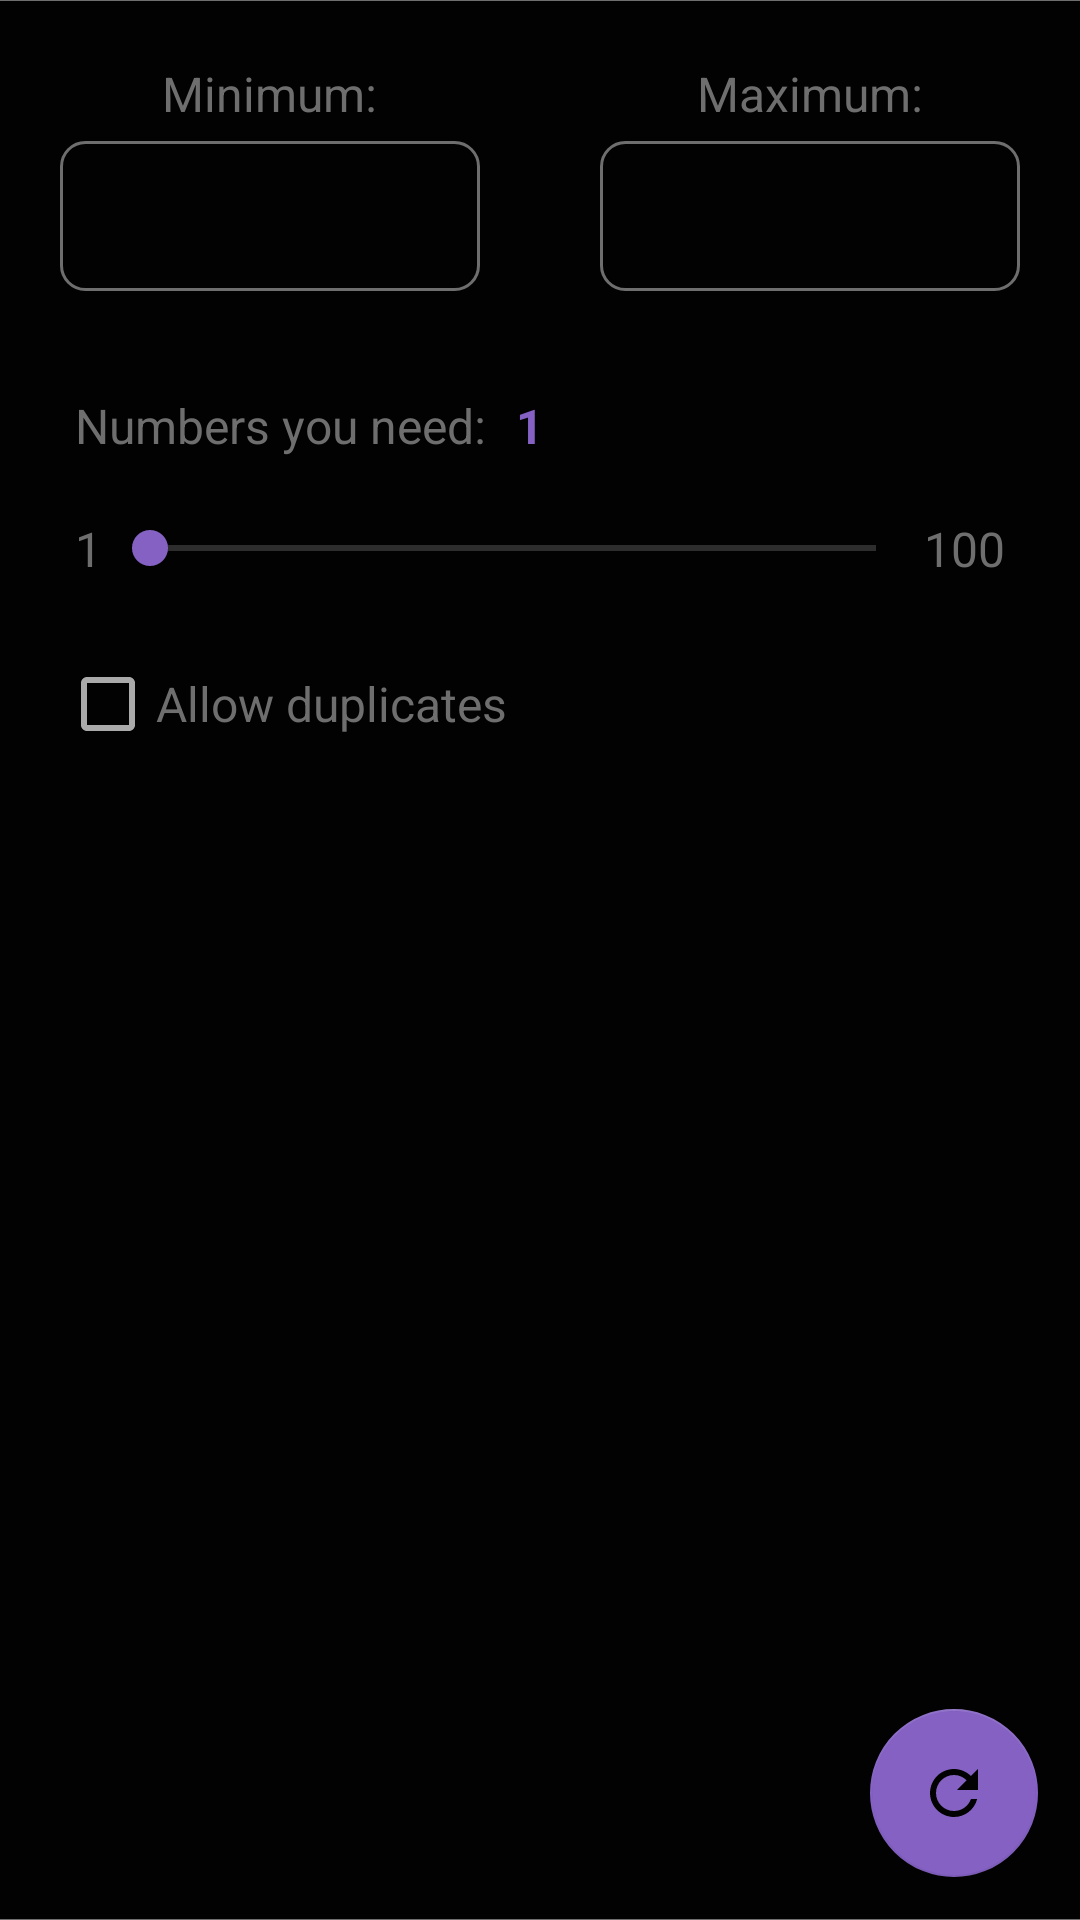

Icon click points for this 1080px x 1920px phone screenshot, format (x=x, y=y):
refresh: (x=954, y=1793)
